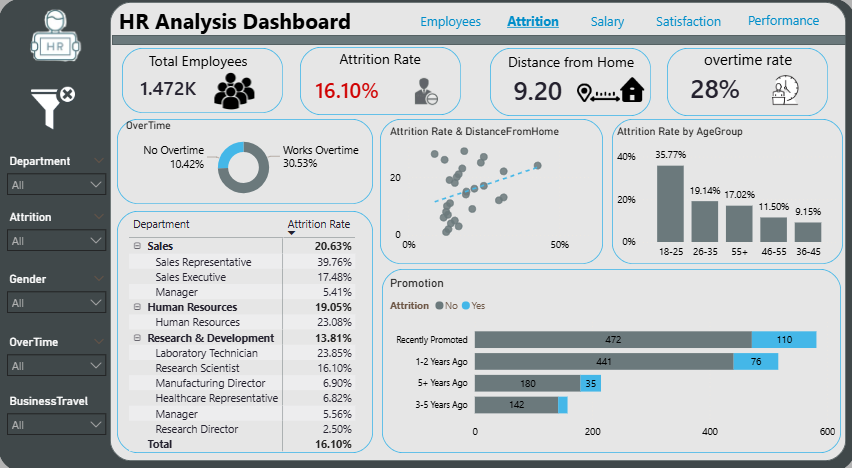

Layout of this report page (visuals, bound fields, positions):
{"tool":"powerbi","page":{"name":"attrition","canvas":[1070,590],"ordinal":1},"visuals":[{"type":"shape","box":[0,0,1070,590],"z":0},{"type":"shape","box":[138.8,3.8,920,573.8],"z":1000},{"type":"shape","box":[476.2,150,278.8,181.2],"z":2000},{"type":"shape","box":[147.5,150,320,106.2],"z":3000},{"type":"shape","box":[147.5,265,320,302.5],"z":4000},{"type":"shape","box":[478.8,337.5,573.8,230],"z":5000},{"type":"textbox","title":"  HR  Analytics","box":[137.5,3.8,371.2,47.5],"z":6000},{"type":"image","box":[11.2,10,117.5,70],"z":7000},{"type":"shape","box":[141.2,45,917.5,12.5],"z":8000},{"type":"shape","box":[835,61.2,201.2,85],"z":9000},{"type":"shape","box":[376.2,60,201.2,85],"z":10000},{"type":"shape","box":[766.2,150,288.8,181.2],"z":11000},{"type":"shape","box":[153.8,61.2,201.2,81.2],"z":12000},{"type":"shape","box":[613.8,61.2,201.2,85],"z":13000},{"type":"cardVisual","fields":{"Data":["_measures table.Attrition Rate"]},"box":[366.2,80,142.5,63.8],"z":14000},{"type":"cardVisual","fields":{"Data":["_measures table.overtime rate"]},"box":[835,76.2,133.8,66.2],"z":15000},{"type":"cardVisual","fields":{"Data":["_measures table.Distance from Home"]},"box":[613.8,75,122.5,73.8],"z":16000},{"type":"cardVisual","fields":{"Data":["_measures table.Total_Employees"]},"box":[147.5,77.5,133.8,62.5],"z":17000},{"type":"donutChart","title":" OverTime","fields":{"Category":["Fact_employee.Overtime Rating"],"Y":["_measures table.Attrition Rate"]},"box":[153.8,150,303.8,106.2],"z":18000},{"type":"scatterChart","title":"Attrition Rate & DistanceFromHome","fields":{"X":["_measures table.Attrition Rate"],"Y":["Fact_employee.DistanceFromHome"]},"box":[483.8,157.5,271.2,167.5],"z":19000},{"type":"pivotTable","fields":{"Rows":["dim_department.Department","dim_job role.JobRole"],"Values":["_measures table.Attrition Rate"]},"box":[157.5,266.2,310,311.2],"z":20000},{"type":"clusteredColumnChart","fields":{"Y":["_measures table.Attrition Rate"],"Category":["dim_employee.AgeGroup"]},"box":[767.5,157.5,283.8,176.2],"z":21000},{"type":"barChart","title":"Promotion","fields":{"Category":["Fact_employee.Promotion Recency"],"Y":["_measures table.Total Employees"],"Series":["Fact_employee.Attrition"]},"box":[483.8,347.5,566.2,211.2],"z":22000},{"type":"slicer","fields":{"Values":["dim_employee.Gender"]},"box":[0,337.5,143.8,66.2],"z":23000},{"type":"slicer","fields":{"Values":["dim_department.Department"]},"box":[0,190,143.8,56.2],"z":24000},{"type":"slicer","fields":{"Values":["dim_Busines travel.BusinessTravel"]},"box":[0,490,143.8,68.8],"z":25000},{"type":"slicer","fields":{"Values":["Fact_employee.Attrition"]},"box":[0,260,143.8,68.8],"z":26000},{"type":"slicer","fields":{"Values":["Fact_employee.OverTime"]},"box":[0,416.2,143.8,66.2],"z":27000},{"type":"image","box":[25,108.8,85,55],"z":28000},{"type":"shape","box":[508.8,10,111.2,35],"z":29000},{"type":"shape","box":[620,10,95,35],"z":30000},{"type":"shape","box":[722.5,10,76.2,35],"z":31000},{"type":"shape","box":[798.8,10,126.2,35],"z":32000},{"type":"shape","box":[925,10,111.2,32.5],"z":33000},{"type":"image","box":[251.2,90,86.2,50],"z":33001},{"type":"shape","box":[160,60,177.5,33.8],"z":33002},{"type":"shape","box":[387.5,57.5,177.5,33.8],"z":33003},{"type":"shape","box":[626.2,61.2,177.5,33.8],"z":33004},{"type":"image","box":[722.5,83.8,83.8,58.8],"z":33005},{"type":"shape","box":[847.5,56.2,177.5,37.5],"z":33006},{"type":"image","box":[941.2,91.2,83.8,48.8],"z":33007},{"type":"image","box":[491.2,86.2,86.2,50],"z":33008}]}

Visuals, with their boxes in screenshot pixels (x1, y1, x2, y2), scaled from the page's 1070x590 canvas onto the 852x468 screenshot:
shape: rect(0, 0, 851, 467)
shape: rect(111, 3, 843, 458)
shape: rect(379, 119, 601, 263)
shape: rect(117, 119, 372, 203)
shape: rect(117, 210, 372, 450)
shape: rect(381, 268, 838, 450)
"  HR  Analytics" textbox: rect(109, 3, 405, 41)
image: rect(9, 8, 102, 63)
shape: rect(112, 36, 843, 46)
shape: rect(665, 49, 825, 116)
shape: rect(300, 48, 460, 115)
shape: rect(610, 119, 840, 263)
shape: rect(122, 49, 283, 113)
shape: rect(489, 49, 649, 116)
cardVisual - _measures table.Attrition Rate: rect(292, 63, 405, 114)
cardVisual - _measures table.overtime rate: rect(665, 60, 771, 113)
cardVisual - _measures table.Distance from Home: rect(489, 59, 586, 118)
cardVisual - _measures table.Total_Employees: rect(117, 61, 224, 111)
" OverTime" donutChart: rect(122, 119, 364, 203)
"Attrition Rate & DistanceFromHome" scatterChart: rect(385, 125, 601, 258)
pivotTable - dim_department.Department x dim_job role.JobRole: rect(125, 211, 372, 458)
clusteredColumnChart - _measures table.Attrition Rate x dim_employee.AgeGroup: rect(611, 125, 837, 265)
"Promotion" barChart: rect(385, 276, 836, 443)
slicer - dim_employee.Gender: rect(0, 268, 115, 320)
slicer - dim_department.Department: rect(0, 151, 115, 195)
slicer - dim_Busines travel.BusinessTravel: rect(0, 389, 115, 443)
slicer - Fact_employee.Attrition: rect(0, 206, 115, 261)
slicer - Fact_employee.OverTime: rect(0, 330, 115, 383)
image: rect(20, 86, 88, 130)
shape: rect(405, 8, 494, 36)
shape: rect(494, 8, 569, 36)
shape: rect(575, 8, 636, 36)
shape: rect(636, 8, 737, 36)
shape: rect(737, 8, 825, 34)
image: rect(200, 71, 269, 111)
shape: rect(127, 48, 269, 74)
shape: rect(309, 46, 450, 72)
shape: rect(499, 49, 640, 75)
image: rect(575, 66, 642, 113)
shape: rect(675, 45, 816, 74)
image: rect(749, 72, 816, 111)
image: rect(391, 68, 460, 108)
